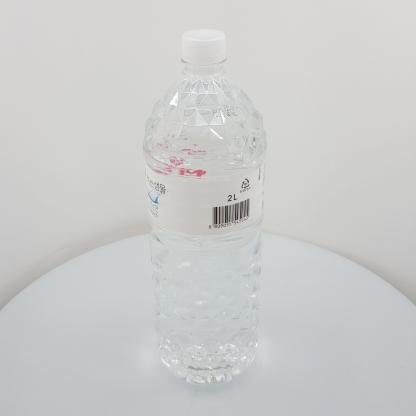--------------: (143, 28, 267, 386)
